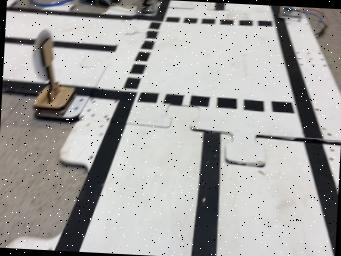street: (2, 0, 338, 256), (2, 0, 338, 256), (2, 0, 338, 256)
